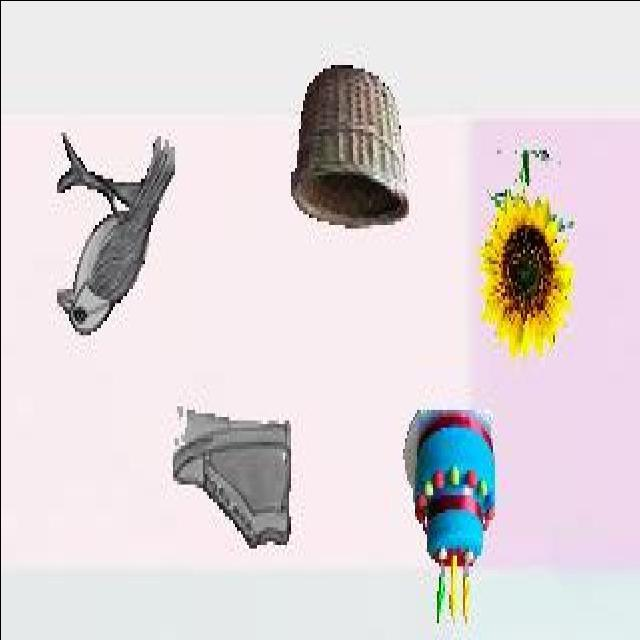Other Objects: (56, 130, 176, 338), (288, 64, 408, 231), (172, 406, 290, 550)
